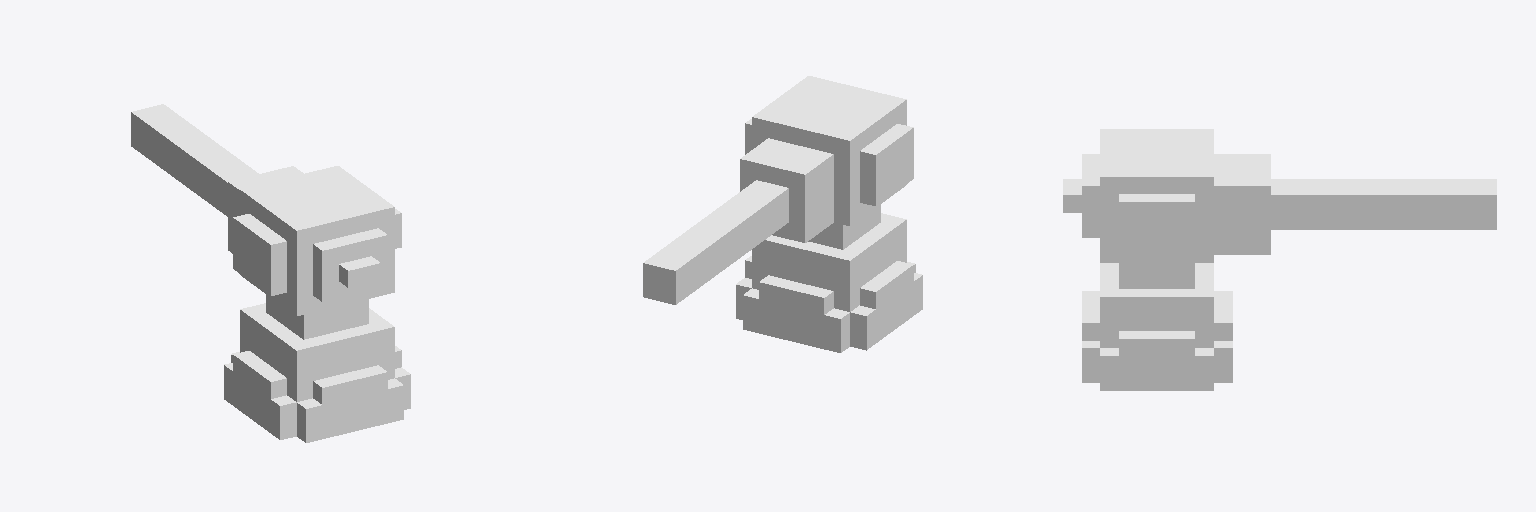
The model's file is tower-1-0.obj.
The picture shows the model from 3 angles: view 1: azimuth 30°, elevation 25°; view 2: azimuth 150°, elevation 25°; view 3: azimuth 270°, elevation 25°; orthographic projection.
Parts seen in each view (by area): view 1: object 1; view 2: object 1; view 3: object 1.
Boxes of the visible parts, <box> form: object 1: <box>131,104,410,442</box>; object 1: <box>643,76,922,352</box>; object 1: <box>1063,129,1496,390</box>.
Size of the model in its own units: 0.8 by 1.2 by 2.3.